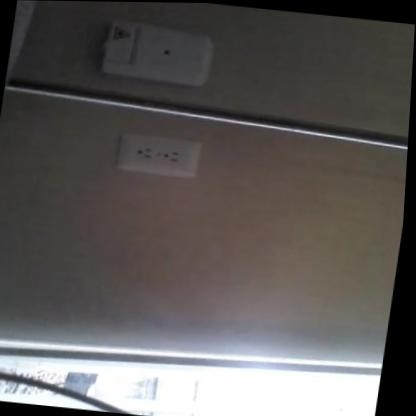OUTLET: (115, 128, 204, 178)
